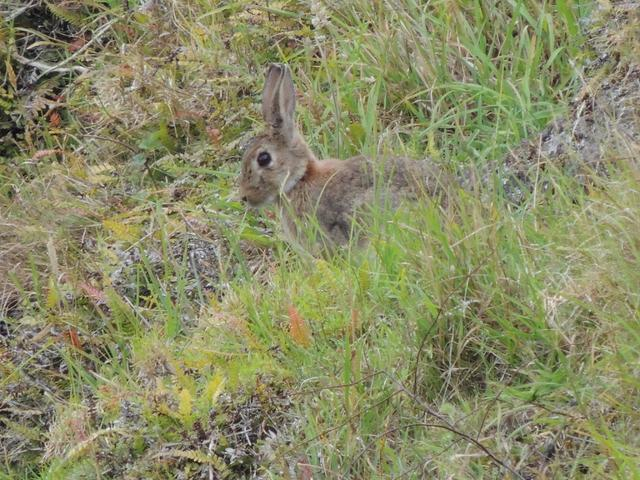rabbit: (222, 45, 481, 287)
